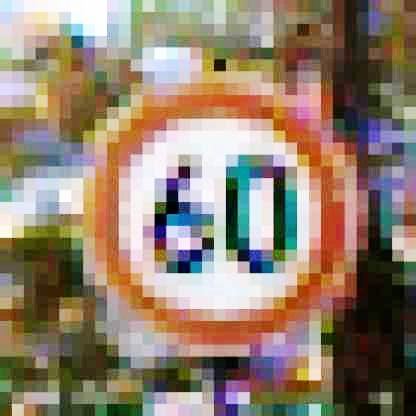Speed Limit -60-: (79, 83, 350, 352)
